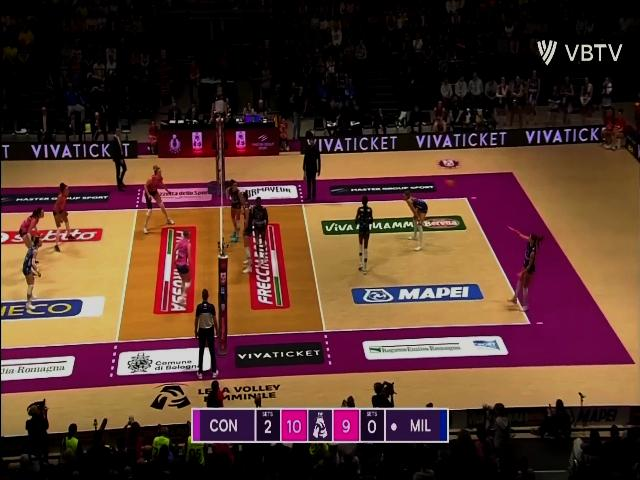volleyball court: (1, 195, 531, 350)
